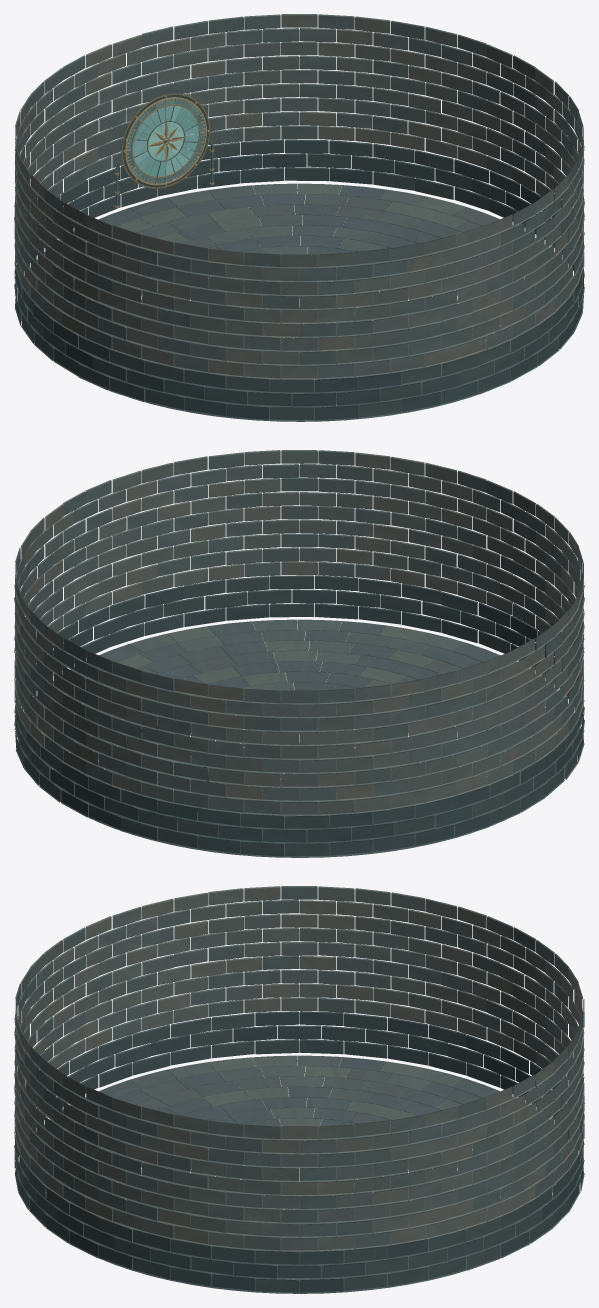
Rendered from optics_gallery.glb.
The picture shows the model from 3 angles, top to bottom: view 1: azimuth 30°, elevation 25°; view 2: azimuth 150°, elevation 25°; view 3: azimuth 270°, elevation 25°; orthographic projection.
Parts seen in each view (by area): view 1: SM_Gallery_Ashlar, SM_Gallery_Flagstones, SM_Gallery_SeaGlass, SM_Gallery_Brasswork; view 2: SM_Gallery_Ashlar, SM_Gallery_Flagstones; view 3: SM_Gallery_Ashlar, SM_Gallery_Flagstones.
Part boxes in pixels (bbox=[...]): SM_Gallery_Ashlar: bbox=[14, 14, 584, 421]; SM_Gallery_Flagstones: bbox=[21, 183, 578, 421]; SM_Gallery_SeaGlass: bbox=[126, 99, 205, 183]; SM_Gallery_Brasswork: bbox=[114, 93, 214, 208]; SM_Gallery_Ashlar: bbox=[14, 450, 584, 857]; SM_Gallery_Flagstones: bbox=[20, 619, 577, 857]; SM_Gallery_Ashlar: bbox=[14, 886, 584, 1293]; SM_Gallery_Flagstones: bbox=[19, 1055, 580, 1293].
Size of the model in its own units: 30.85 by 10.05 by 30.84.
Materials: 3 (3 with a texture image).
